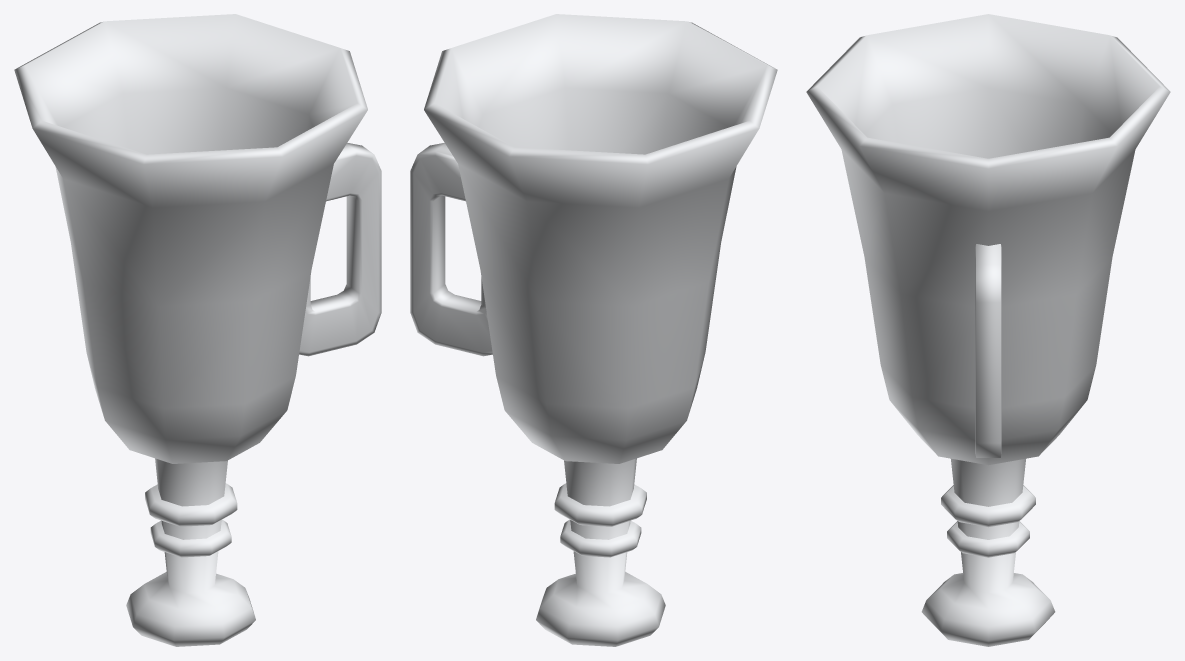
The model's file is cooking_assets_irish_coffee_glass.glb.
The picture shows the model from 3 angles, left to right: view 1: azimuth 30°, elevation 25°; view 2: azimuth 150°, elevation 25°; view 3: azimuth 270°, elevation 25°; orthographic projection.
Visible parts, largest first — view 1: sercups_irish_coffee_glass_Cylinder.111; view 2: sercups_irish_coffee_glass_Cylinder.111; view 3: sercups_irish_coffee_glass_Cylinder.111.
Boxes of the visible parts, x1,y1,x2,y2 form: sercups_irish_coffee_glass_Cylinder.111: [14, 14, 381, 646]; sercups_irish_coffee_glass_Cylinder.111: [410, 14, 777, 646]; sercups_irish_coffee_glass_Cylinder.111: [806, 14, 1170, 646].
Size of the model in its own units: 2.18 by 3.28 by 2.02.
1 material, 1 textured.
